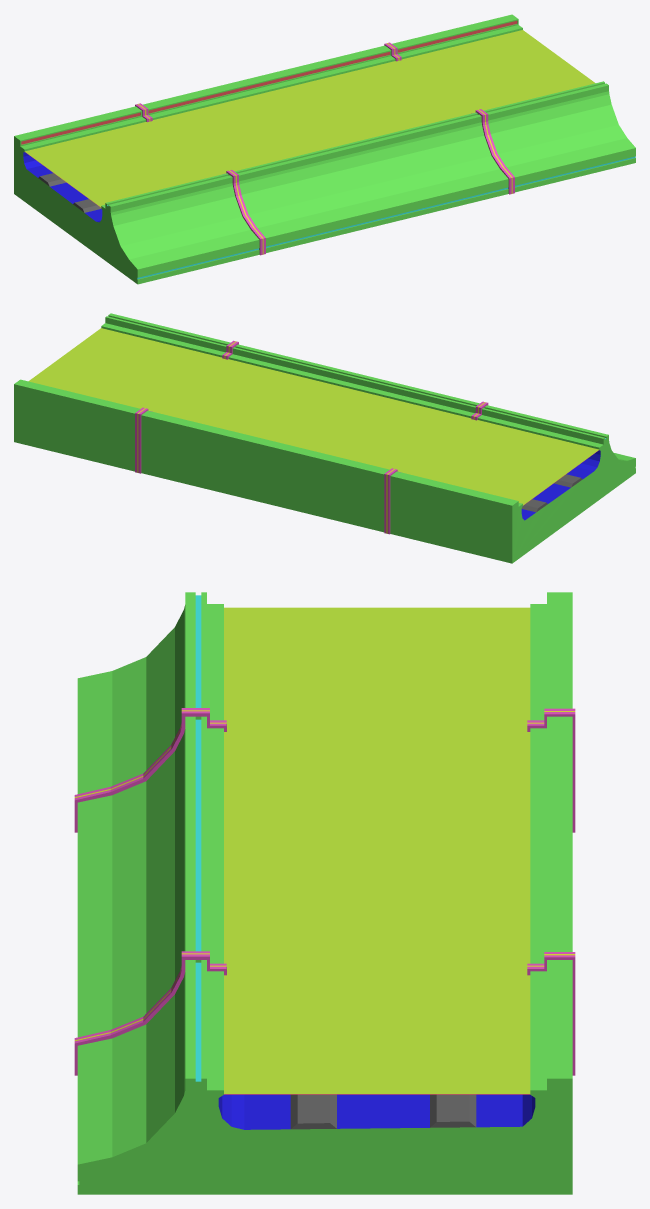
The model's file is Interior_Deco_02_Straight.fbx.
The picture shows the model from 3 angles, top to bottom: view 1: azimuth 30°, elevation 25°; view 2: azimuth 150°, elevation 25°; view 3: azimuth 270°, elevation 25°; orthographic projection. The views are drawn at different scales.
Parts seen in each view (by area): view 1: Interior_Deco_02_Straight; view 2: Interior_Deco_02_Straight; view 3: Interior_Deco_02_Straight.
Boxes of the visible parts, x1,y1,x2,y2 form: Interior_Deco_02_Straight: (14, 14, 635, 284); Interior_Deco_02_Straight: (14, 313, 635, 563); Interior_Deco_02_Straight: (74, 592, 575, 1194).
Size of the model in its own units: 457 by 52.22 by 199.
